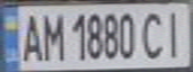0: (118, 8, 139, 61)
1: (66, 9, 87, 61)
8: (84, 9, 106, 61), (103, 9, 121, 61)
A: (15, 9, 45, 63)
C: (139, 7, 169, 60)
I: (160, 7, 190, 60)
M: (39, 8, 66, 62)
